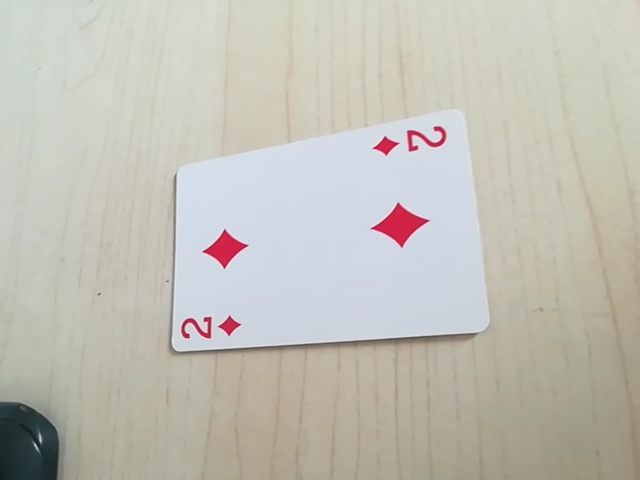fk 2: (370, 122, 454, 161), (177, 307, 246, 350)
